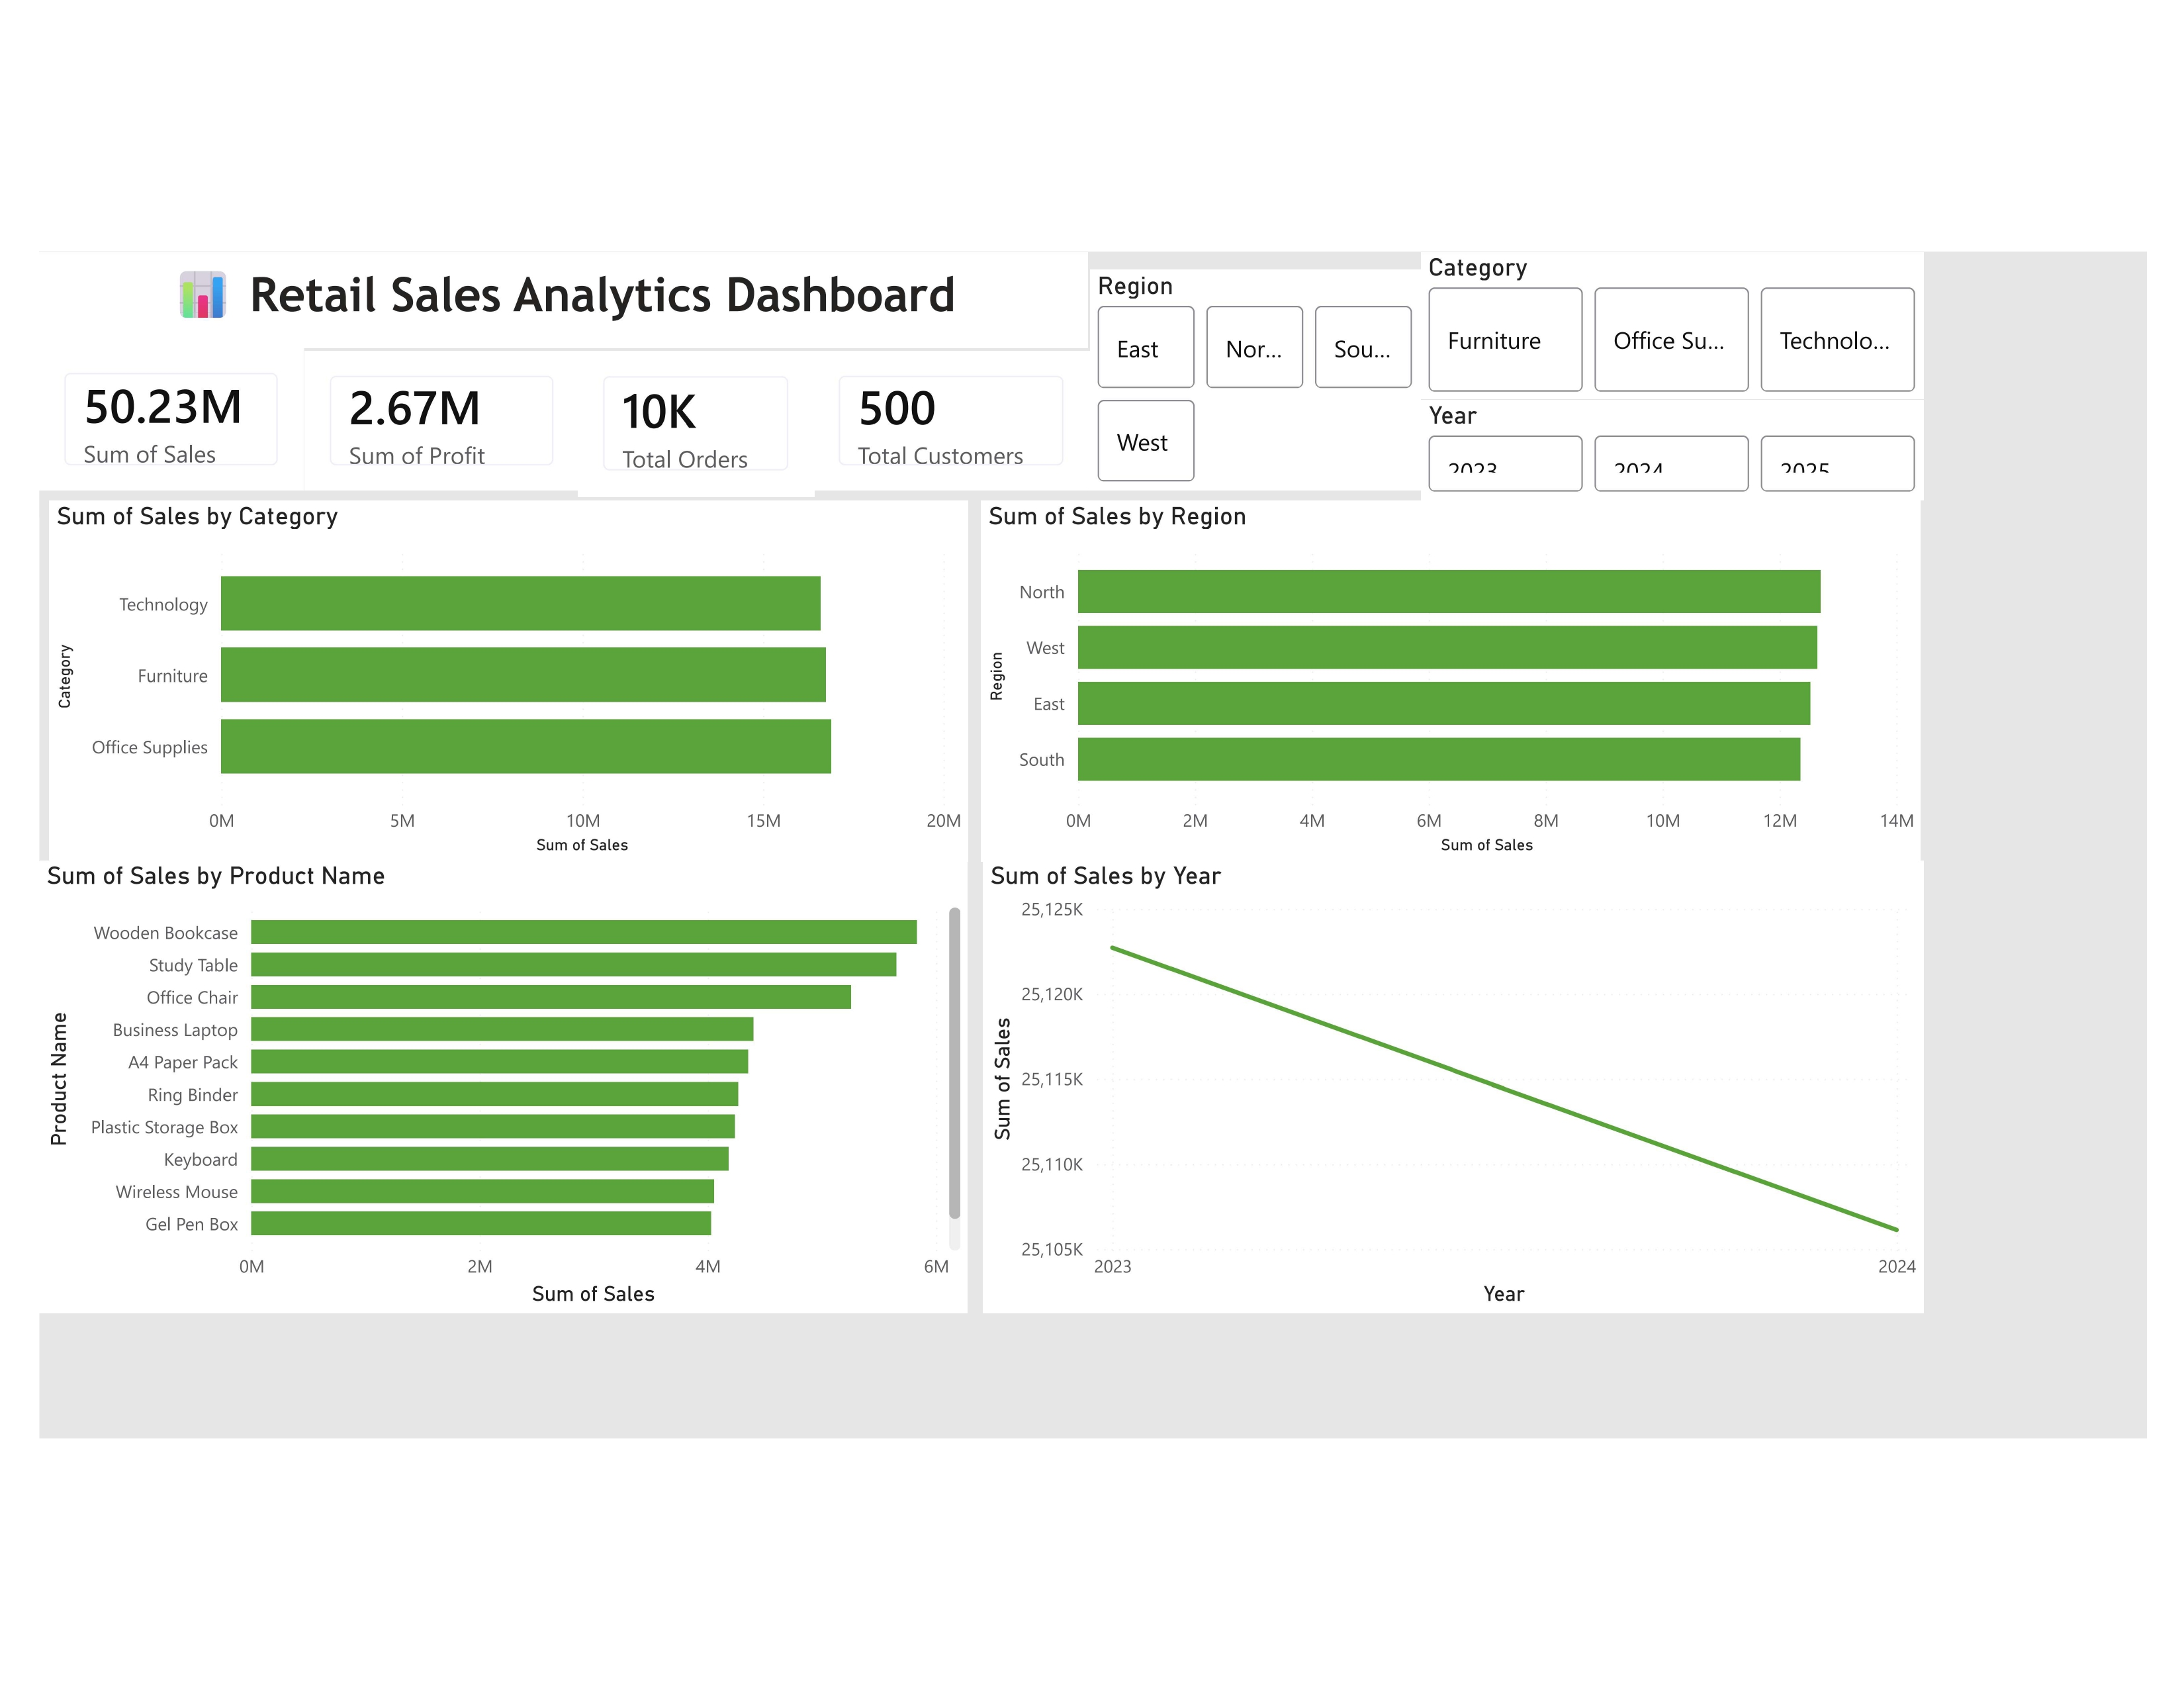

Layout of this report page (visuals, bound fields, positions):
{"tool":"powerbi","page":{"name":"Page 1","canvas":[1280,720],"ordinal":0},"visuals":[{"type":"cardVisual","fields":{"Data":["Sum(Cleaned_Retail_Data.Sales)"]},"box":[0,65.2,179.7,97],"z":0},{"type":"cardVisual","fields":{"Data":["Sum(Cleaned_Retail_Data.Profit)"]},"box":[179.7,66.8,186.1,95.4],"z":1000},{"type":"cardVisual","fields":{"Data":["Cleaned_Retail_Data.Total Orders"]},"box":[365.8,66.8,160.7,98.6],"z":2000},{"type":"cardVisual","fields":{"Data":["Cleaned_Retail_Data.Total Customers"]},"box":[526.5,66.8,187.7,95.4],"z":3000},{"type":"clusteredBarChart","fields":{"Category":["Cleaned_Retail_Data.Category"],"Y":["Sum(Cleaned_Retail_Data.Sales)"]},"box":[6.4,168.6,625.1,245],"z":4000},{"type":"clusteredBarChart","fields":{"Category":["Cleaned_Retail_Data.Region"],"Y":["Sum(Cleaned_Retail_Data.Sales)"]},"box":[641,168.6,639.4,245],"z":5000},{"type":"clusteredBarChart","fields":{"Category":["Cleaned_Retail_Data.Product Name"],"Y":["Sum(Cleaned_Retail_Data.Sales)"]},"box":[0,412.9,631.5,307.7],"z":6000},{"type":"lineChart","fields":{"Category":["Cleaned_Retail_Data.Order Date.Variation.Date Hierarchy.Year","Cleaned_Retail_Data.Order Date.Variation.Date Hierarchy.Quarter","Cleaned_Retail_Data.Order Date.Variation.Date Hierarchy.Month","Cleaned_Retail_Data.Order Date.Variation.Date Hierarchy.Day"],"Y":["Sum(Cleaned_Retail_Data.Sales)"]},"box":[641.2,412.9,639.6,307.7],"z":7000},{"type":"advancedSlicerVisual","fields":{"Values":["Cleaned_Retail_Data.Category"]},"box":[939.2,0,341.7,100.4],"z":9000},{"type":"advancedSlicerVisual","fields":{"Values":["Cleaned_Retail_Data.Ship Date.Variation.Date Hierarchy.Year"]},"box":[939.2,100.4,341.7,68],"z":10000},{"type":"textbox","box":[0,0,712.6,65.2],"z":10001},{"type":"advancedSlicerVisual","fields":{"Values":["Cleaned_Retail_Data.Region"]},"box":[714,12,225,150],"z":10002}]}

Visuals, with their boxes on the page's 1280x720 design canvas (x1, y1, x2, y2). These are canvas units, not pixel positions in the 2184x1688 screenshot, which may show the page scaled, cropped or inside an application window:
cardVisual - Sum(Cleaned_Retail_Data.Sales): bbox=[0, 65, 180, 162]
cardVisual - Sum(Cleaned_Retail_Data.Profit): bbox=[180, 67, 366, 162]
cardVisual - Cleaned_Retail_Data.Total Orders: bbox=[366, 67, 526, 165]
cardVisual - Cleaned_Retail_Data.Total Customers: bbox=[526, 67, 714, 162]
clusteredBarChart - Cleaned_Retail_Data.Category x Sum(Cleaned_Retail_Data.Sales): bbox=[6, 169, 632, 414]
clusteredBarChart - Cleaned_Retail_Data.Region x Sum(Cleaned_Retail_Data.Sales): bbox=[641, 169, 1280, 414]
clusteredBarChart - Cleaned_Retail_Data.Product Name x Sum(Cleaned_Retail_Data.Sales): bbox=[0, 413, 632, 721]
lineChart - Cleaned_Retail_Data.Order Date.Variation.Date Hierarchy.Year x Cleaned_Retail_Data.Order Date.Variation.Date Hierarchy.Quarter: bbox=[641, 413, 1281, 721]
advancedSlicerVisual - Cleaned_Retail_Data.Category: bbox=[939, 0, 1281, 100]
advancedSlicerVisual - Cleaned_Retail_Data.Ship Date.Variation.Date Hierarchy.Year: bbox=[939, 100, 1281, 168]
textbox: bbox=[0, 0, 713, 65]
advancedSlicerVisual - Cleaned_Retail_Data.Region: bbox=[714, 12, 939, 162]
